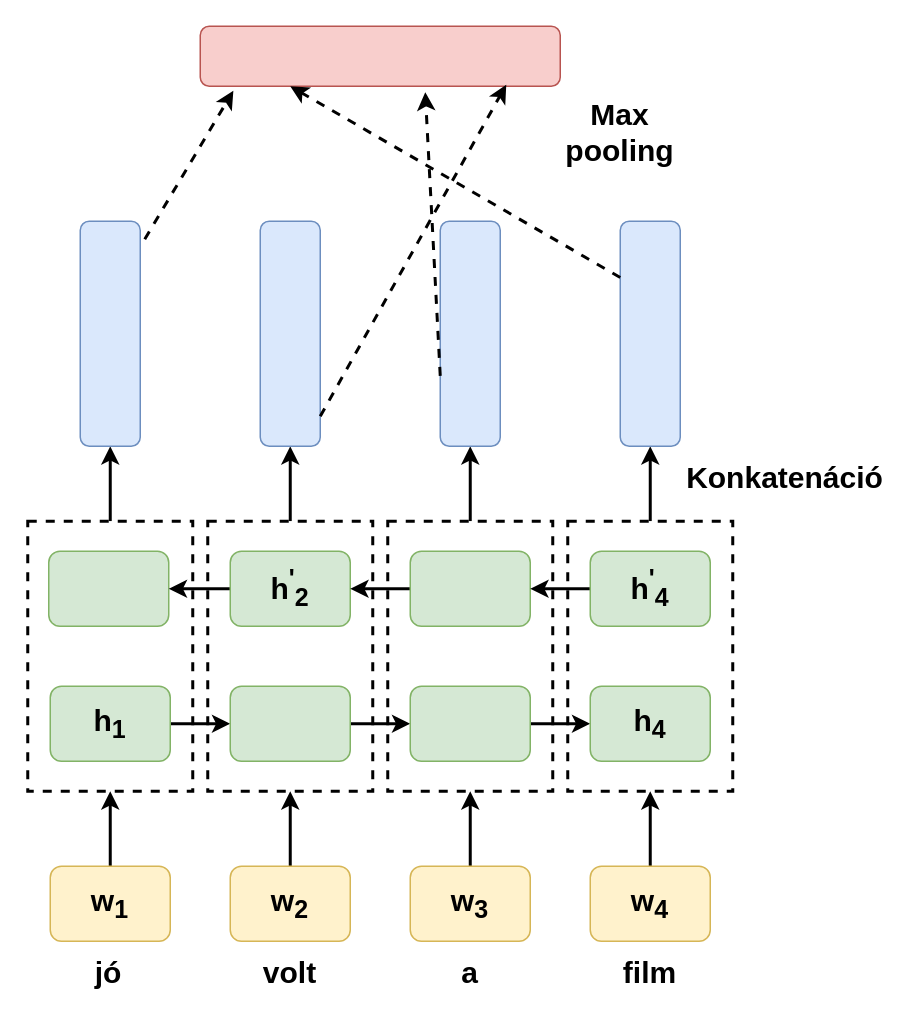
The diagram is 909 pixels wide and 1016 high, and some of its shapes have lost their labels. The box of each missing label's shape, as (x1, y1, x2, y2) in pixels:
h ' 1: (47, 550, 169, 626)
h ' 3: (409, 550, 530, 626)
h 2: (229, 685, 350, 761)
h 3: (409, 685, 530, 761)
